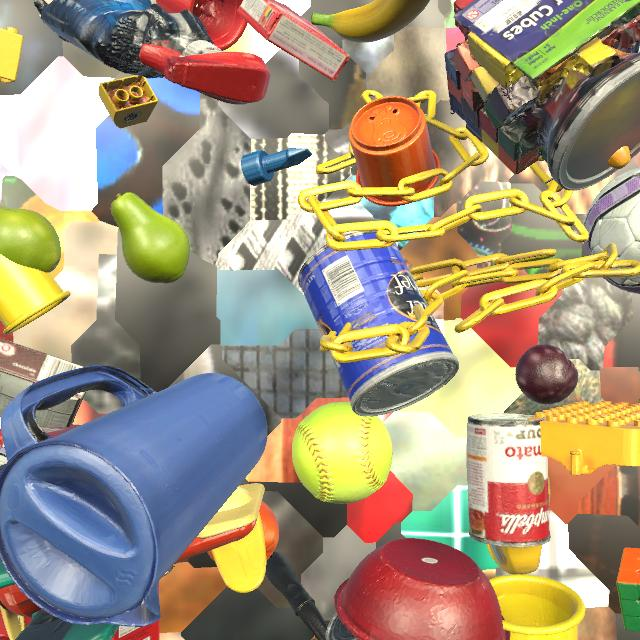ycb_002_master_chef_can: (298, 230, 459, 417), (325, 612, 358, 640)
ycb_003_cracker_box: (0, 424, 159, 640)
ycb_005_tomato_soup_can: (467, 413, 551, 547)
ycb_006_mustard_bottle: (486, 476, 551, 574)
ycb_008_pudding_box: (0, 338, 86, 427)
ycb_009_gelatin_box: (237, 0, 350, 81)
ycb_011_banana: (311, 0, 430, 43), (607, 146, 630, 169)
ycb_016_pear: (111, 192, 190, 284), (0, 206, 61, 273)
ycb_017_orange: (207, 501, 279, 562)
ycb_018_plum: (515, 344, 578, 404)
